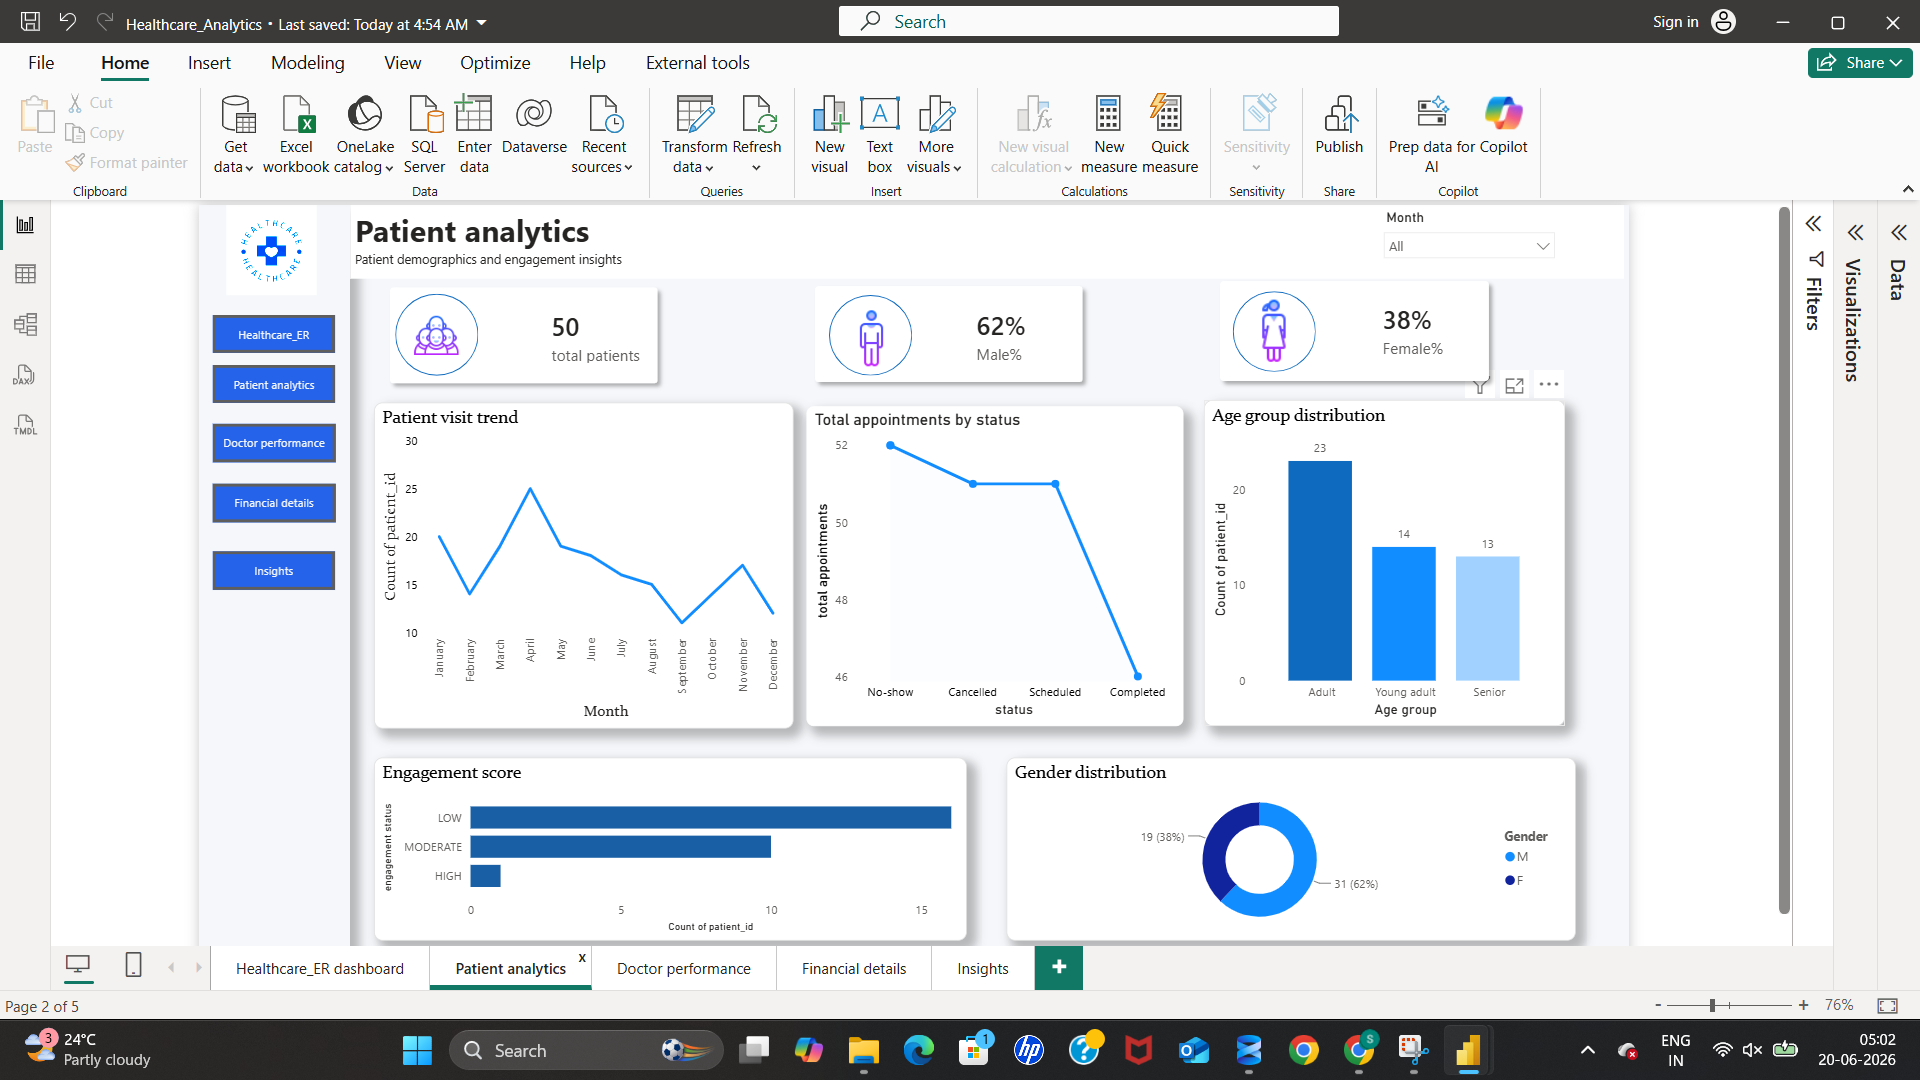

The page's visual inventory and layout, read from the dashboard file:
{"tool":"powerbi","page":{"name":"Patient analytics","canvas":[1506,815],"ordinal":1},"visuals":[{"type":"donutChart","title":"Gender distribution","fields":{"Category":["patients.Gender"],"Y":["CountNonNull(patients.patient_id)"]},"box":[849.6,581.4,599.2,192.9],"z":0},{"type":"clusteredColumnChart","title":"Age group distribution","fields":{"Category":["patients.Age group"],"Y":["CountNonNull(patients.patient_id)"]},"box":[1057.5,205.2,380.3,343.4],"z":1000},{"type":"clusteredBarChart","title":"Engagement score","fields":{"Y":["CountNonNull(repeat_patients.patient_id)"],"Category":["repeat_patients.patient segment"]},"box":[184.7,581.4,623.9,192.9],"z":2000},{"type":"lineChart","title":"Patient visit trend","fields":{"Category":["appointments.appointment_date.Variation.Date Hierarchy.Month"],"Y":["CountNonNull(appointments.patient_id)"]},"box":[184.7,208,441.9,343.4],"z":3000},{"type":"shape","title":"Healthcare analytics","box":[0,0,159.2,789.6],"z":4000},{"type":"image","box":[8.4,0,136.3,95.3],"z":5000},{"type":"actionButton","box":[14.5,168.9,129.1,39.8],"z":6000},{"type":"actionButton","box":[14.4,229.8,129.2,40.5],"z":7000},{"type":"actionButton","box":[14.4,293.7,129.2,40.5],"z":8000},{"type":"textbox","box":[158.7,0,1340.7,78],"z":9000},{"type":"slicer","fields":{"Values":["monthly_rev.month_name"]},"box":[1236.5,0,200.5,63.7],"z":10000},{"type":"shape","box":[191.5,78,299.6,119],"z":11000},{"type":"shape","box":[206.6,93,87.6,86.2],"z":12000},{"type":"cardVisual","fields":{"Data":["patients.total patients"]},"box":[342,93,176.5,90.3],"z":13000},{"type":"shape","box":[638.9,76.6,299.6,119],"z":14000},{"type":"cardVisual","fields":{"Data":["patients.Male%"]},"box":[789.4,94.4,153.2,86.2],"z":15000},{"type":"shape","box":[663.5,94.4,87.6,84.8],"z":16000},{"type":"image","box":[658.1,105.3,99.9,71.1],"z":17000},{"type":"shape","box":[1065.7,71.1,301,123.1],"z":18000},{"type":"shape","box":[1087.6,90.3,87.6,84.8],"z":19000},{"type":"image","box":[1080.8,93,99.9,79.3],"z":20000},{"type":"cardVisual","fields":{"Data":["patients.Male%"]},"box":[1217.6,87.6,154.6,86.2],"z":21000},{"type":"areaChart","title":"Total appointments by status","fields":{"Y":["appointments.total appointments"],"Category":["appointments.status"]},"box":[638.9,212.1,396.7,336.6],"z":22000},{"type":"image","box":[221.6,105.3,57.5,64.3],"z":23000},{"type":"actionButton","title":"Executive dashboard","box":[15,116.3,128.6,39.7],"z":24000},{"type":"actionButton","box":[14.5,364.4,128.7,40.5],"z":25000}]}

Visuals, with their boxes on the page's 1506x815 design canvas (x1, y1, x2, y2). These are canvas units, not pixel positions in the 1920x1080 screenshot, which may show the page scaled, cropped or inside an application window:
"Gender distribution" donutChart: {"x1": 850, "y1": 581, "x2": 1449, "y2": 774}
"Age group distribution" clusteredColumnChart: {"x1": 1058, "y1": 205, "x2": 1438, "y2": 549}
"Engagement score" clusteredBarChart: {"x1": 185, "y1": 581, "x2": 809, "y2": 774}
"Patient visit trend" lineChart: {"x1": 185, "y1": 208, "x2": 627, "y2": 551}
"Healthcare analytics" shape: {"x1": 0, "y1": 0, "x2": 159, "y2": 790}
image: {"x1": 8, "y1": 0, "x2": 145, "y2": 95}
actionButton: {"x1": 14, "y1": 169, "x2": 144, "y2": 209}
actionButton: {"x1": 14, "y1": 230, "x2": 144, "y2": 270}
actionButton: {"x1": 14, "y1": 294, "x2": 144, "y2": 334}
textbox: {"x1": 159, "y1": 0, "x2": 1499, "y2": 78}
slicer - monthly_rev.month_name: {"x1": 1236, "y1": 0, "x2": 1437, "y2": 64}
shape: {"x1": 192, "y1": 78, "x2": 491, "y2": 197}
shape: {"x1": 207, "y1": 93, "x2": 294, "y2": 179}
cardVisual - patients.total patients: {"x1": 342, "y1": 93, "x2": 518, "y2": 183}
shape: {"x1": 639, "y1": 77, "x2": 938, "y2": 196}
cardVisual - patients.Male%: {"x1": 789, "y1": 94, "x2": 943, "y2": 181}
shape: {"x1": 664, "y1": 94, "x2": 751, "y2": 179}
image: {"x1": 658, "y1": 105, "x2": 758, "y2": 176}
shape: {"x1": 1066, "y1": 71, "x2": 1367, "y2": 194}
shape: {"x1": 1088, "y1": 90, "x2": 1175, "y2": 175}
image: {"x1": 1081, "y1": 93, "x2": 1181, "y2": 172}
cardVisual - patients.Male%: {"x1": 1218, "y1": 88, "x2": 1372, "y2": 174}
"Total appointments by status" areaChart: {"x1": 639, "y1": 212, "x2": 1036, "y2": 549}
image: {"x1": 222, "y1": 105, "x2": 279, "y2": 170}
"Executive dashboard" actionButton: {"x1": 15, "y1": 116, "x2": 144, "y2": 156}
actionButton: {"x1": 14, "y1": 364, "x2": 143, "y2": 405}
